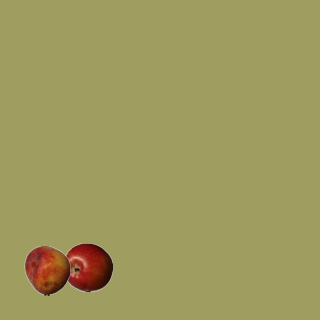Apple Braeburn: (62, 242, 112, 292)
Peach: (22, 245, 72, 295)
